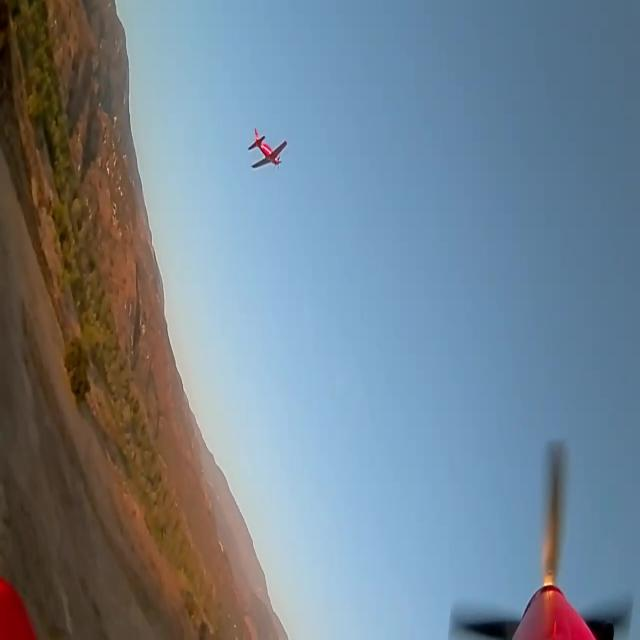iha: (241, 126, 281, 169)
